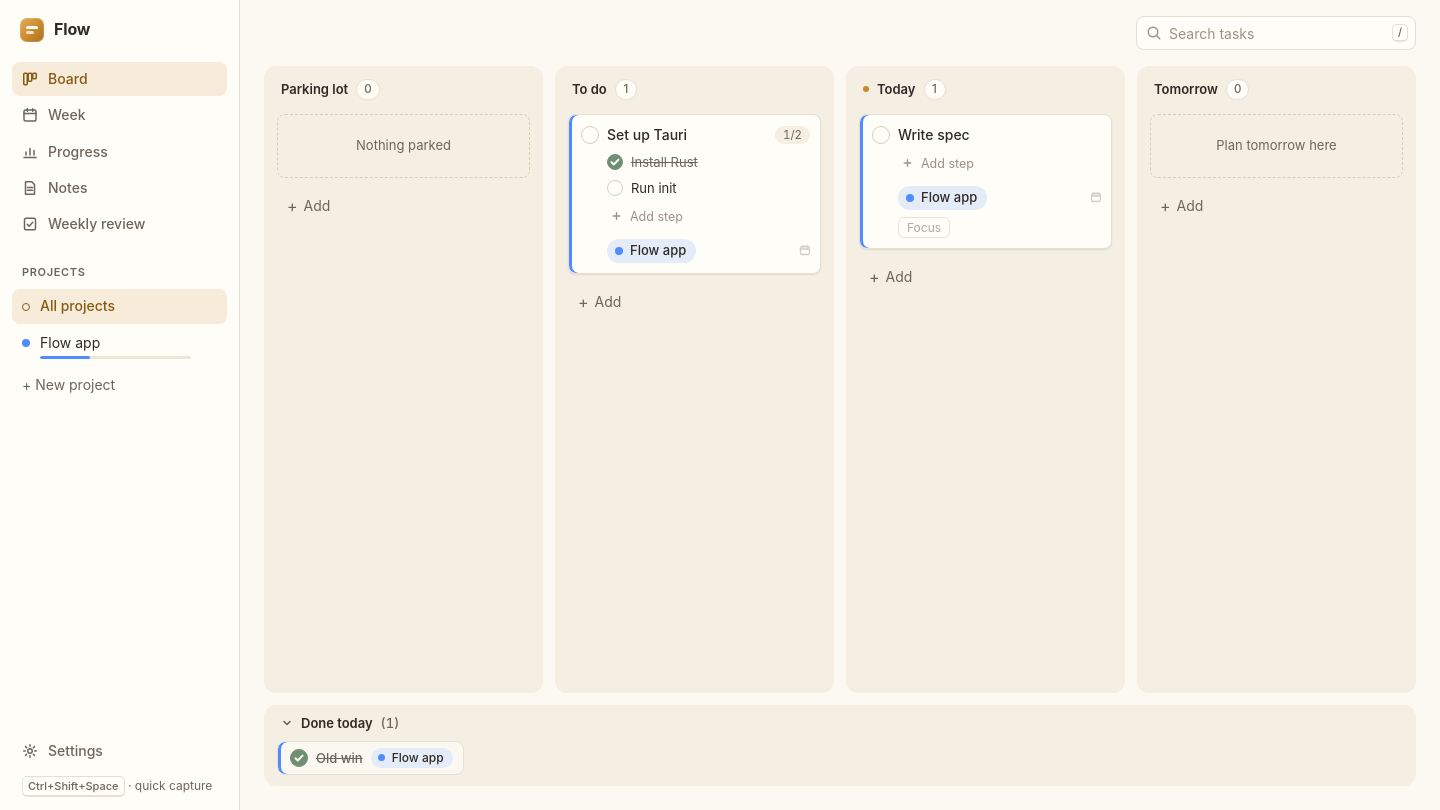
Test: Done bar › done cards are compact: title, pill and tag, no checklist
Expected: the button "Set up Tauri" is shown, x1=607 y1=125 x2=767 y2=144
Click the checkbox named "Done: Set up Tauri". click: {"x": 590, "y": 135}
box: x1=581 y1=126 x2=599 y2=144
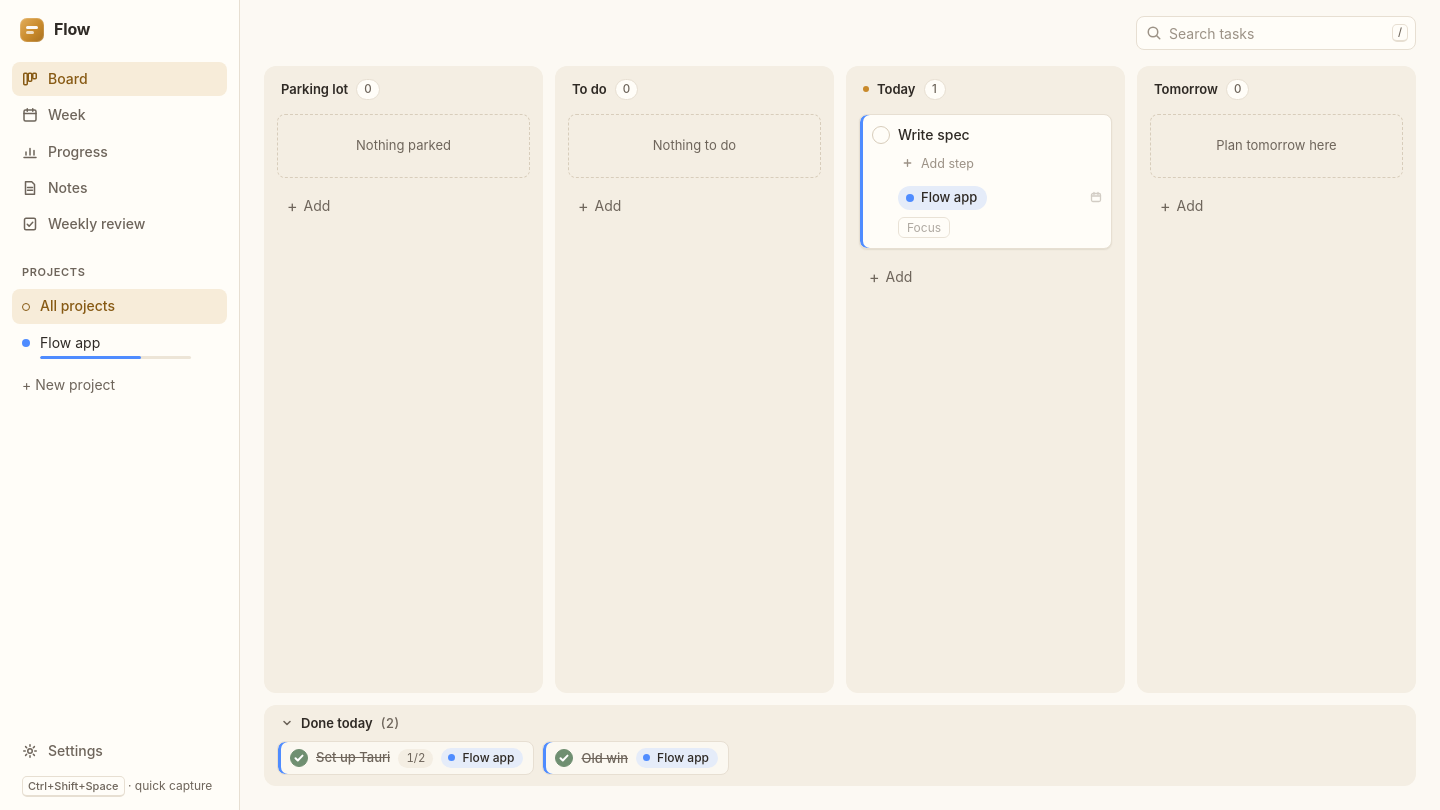
Expected: the text named "1 of 2 steps done" is shown, x1=398 y1=749 x2=434 y2=768
Expected: the button "Run init" is gone
